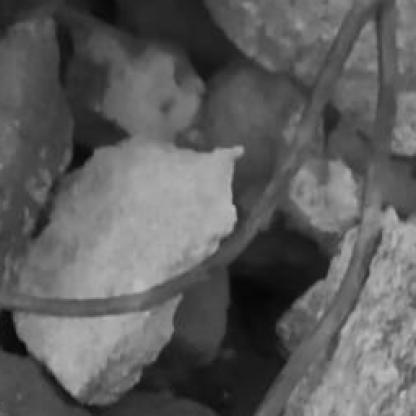wires: (3, 0, 399, 414)
